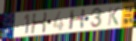1: (24, 13, 31, 35)
3: (90, 7, 104, 29)
4: (52, 10, 67, 33)
H: (67, 8, 87, 32), (31, 11, 49, 35)
K: (107, 6, 121, 27)
